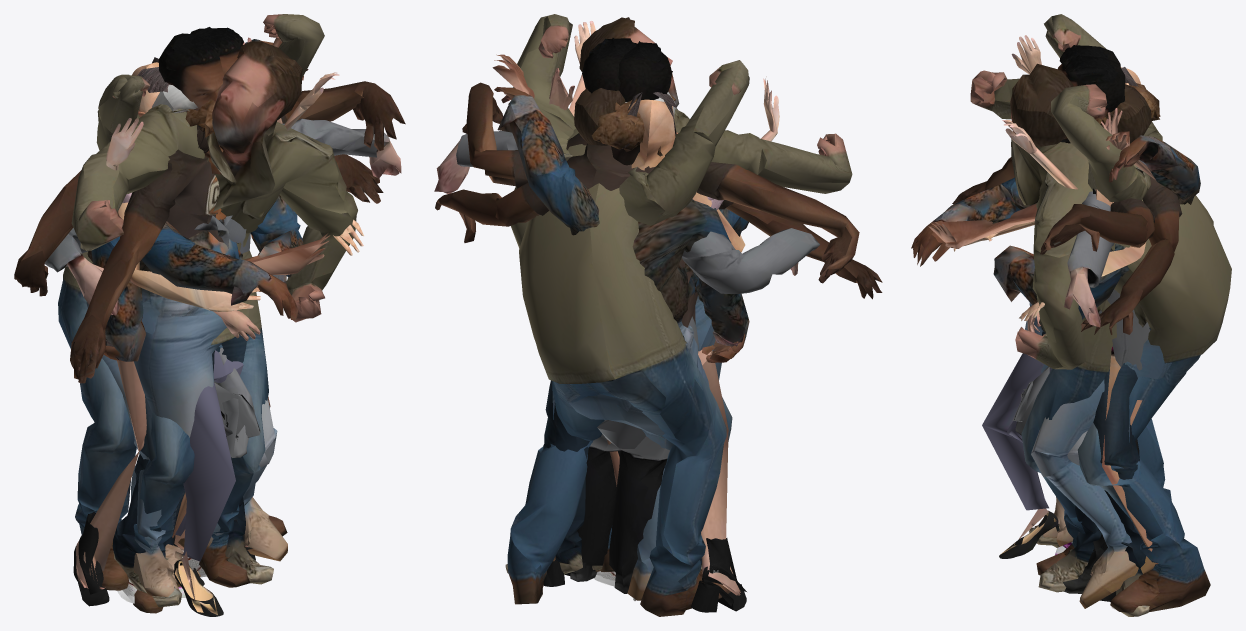
The model's file is club-dancers.glb.
The picture shows the model from 3 angles, left to right: view 1: azimuth 30°, elevation 25°; view 2: azimuth 150°, elevation 25°; view 3: azimuth 270°, elevation 25°; orthographic projection. The views are drawn at different scales.
Visible parts, largest first — view 1: man1_samba, woman1_gina, man2_girl, man1_belly, man2_tifa, belly, woman1_samba, woman2_tifa, dj, samba, gina; view 2: man1_samba, woman2_tifa, man1_belly, man2_girl, man2_tifa, woman1_samba, woman1_gina, dj, samba, belly, gina; view 3: man1_samba, man1_belly, woman1_samba, man2_girl, man2_tifa, woman1_gina, belly, woman2_tifa, samba, gina, dj.
Boxes of the visible parts, left/top/right/bottom form: man1_samba: left=58, top=41, right=357, bottom=590; woman1_gina: left=133, top=39, right=308, bottom=605; man2_girl: left=70, top=33, right=383, bottom=607; man1_belly: left=96, top=14, right=324, bottom=613; man2_tifa: left=14, top=27, right=405, bottom=584; belly: left=106, top=72, right=339, bottom=616; woman1_samba: left=86, top=88, right=303, bottom=587; woman2_tifa: left=44, top=84, right=401, bottom=555; dj: left=73, top=37, right=282, bottom=606; samba: left=117, top=57, right=363, bottom=597; gina: left=117, top=38, right=330, bottom=603; man1_samba: left=507, top=17, right=852, bottom=616; woman2_tifa: left=434, top=92, right=819, bottom=593; man1_belly: left=513, top=14, right=749, bottom=571; man2_girl: left=435, top=41, right=882, bottom=574; man2_tifa: left=462, top=38, right=859, bottom=570; woman1_samba: left=553, top=94, right=749, bottom=600; woman1_gina: left=494, top=87, right=748, bottom=571; dj: left=543, top=68, right=746, bottom=612; samba: left=541, top=92, right=745, bottom=600; belly: left=569, top=21, right=779, bottom=209; gina: left=492, top=54, right=619, bottom=586; man1_samba: left=970, top=63, right=1231, bottom=612; man1_belly: left=1021, top=14, right=1162, bottom=575; woman1_samba: left=993, top=117, right=1187, bottom=608; man2_girl: left=952, top=45, right=1182, bottom=616; man2_tifa: left=1038, top=55, right=1155, bottom=592; woman1_gina: left=911, top=83, right=1200, bottom=544; belly: left=982, top=35, right=1077, bottom=558; woman2_tifa: left=1012, top=191, right=1150, bottom=593; samba: left=953, top=67, right=1158, bottom=610; gina: left=928, top=131, right=1155, bottom=248; dj: left=1027, top=108, right=1122, bottom=601.
Size of the model in its own units: 1.38 by 1.78 by 0.9882.
Materials: 11 (11 with a texture image).
